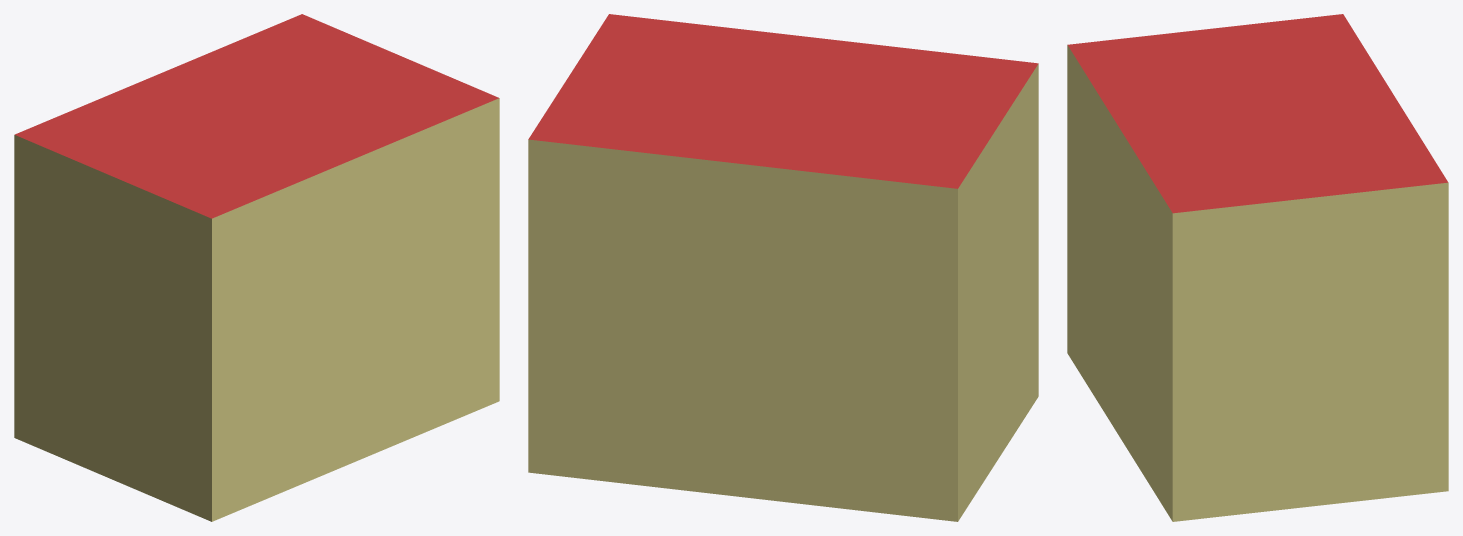
The picture shows the model from 3 angles, left to right: view 1: azimuth 30°, elevation 25°; view 2: azimuth 150°, elevation 25°; view 3: azimuth 270°, elevation 25°; orthographic projection. The views are drawn at different scales.
Size of the model in its own units: 6.87 by 5.55 by 4.96.
